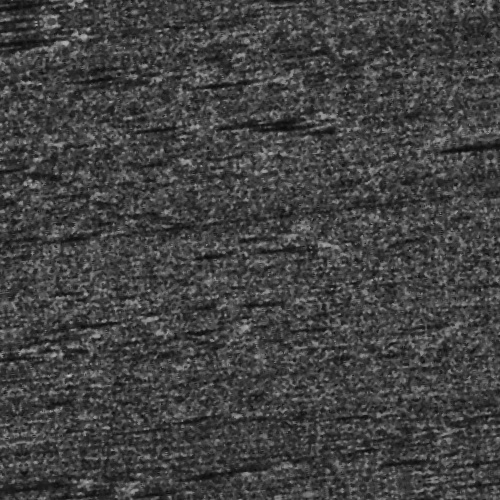object: (67, 6, 108, 21), (398, 0, 429, 3), (29, 455, 50, 458)
shadow: (0, 6, 87, 21), (309, 0, 413, 3), (464, 167, 500, 174), (0, 455, 40, 458)
